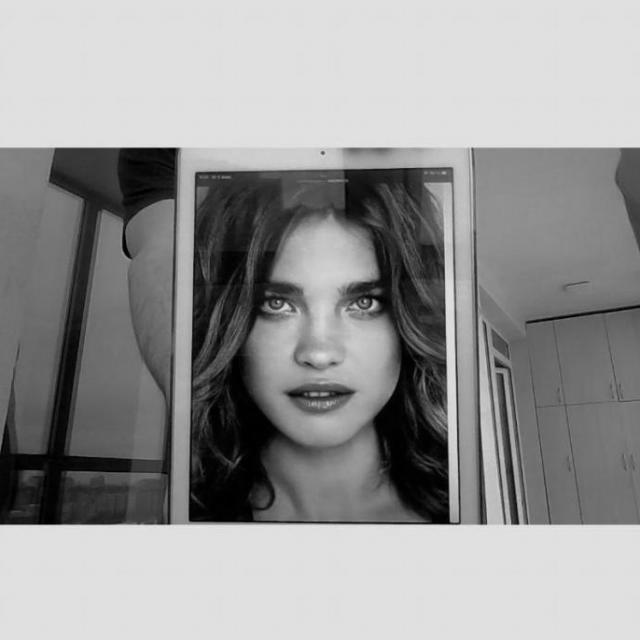fake: (163, 146, 487, 523)
